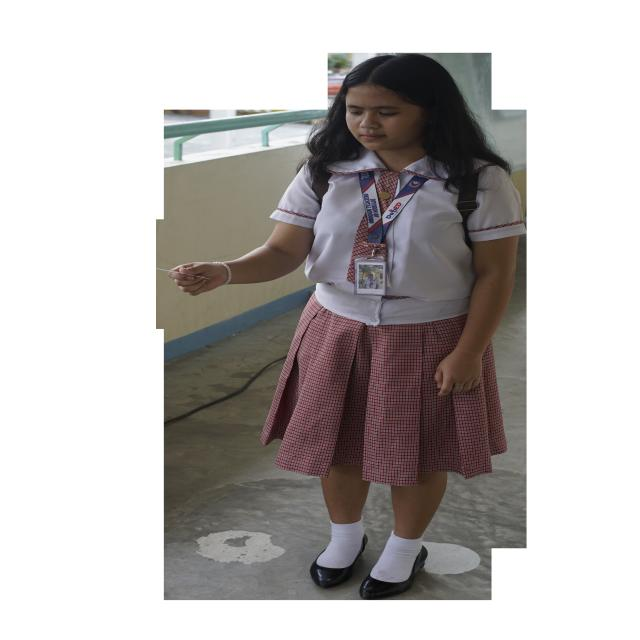id lace: (358, 170, 430, 244)
pologirl: (270, 151, 475, 326), (468, 159, 526, 244)
shoes: (359, 546, 428, 599), (310, 561, 355, 588), (356, 534, 368, 559)
skirt: (261, 297, 506, 486)
